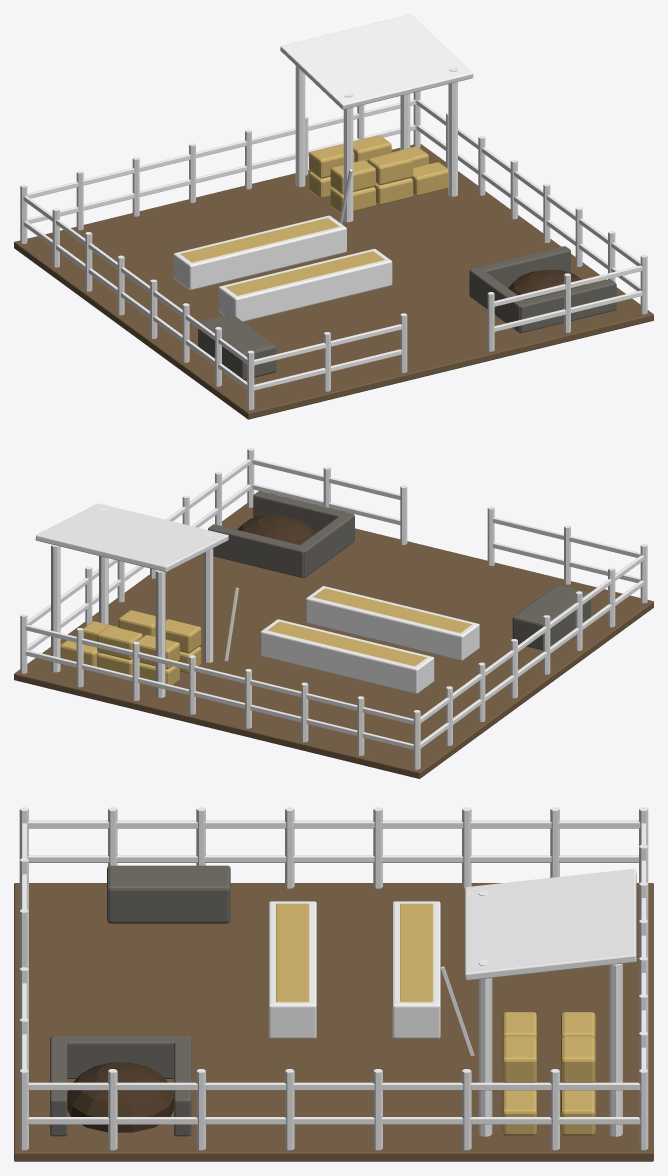
The model's file is besi.glb.
The picture shows the model from 3 angles, top to bottom: view 1: azimuth 30°, elevation 25°; view 2: azimuth 150°, elevation 25°; view 3: azimuth 270°, elevation 25°; orthographic projection. The views are drawn at different scales.
Parts seen in each view (by area): view 1: Avlu; view 2: Avlu; view 3: Avlu.
Part boxes in pixels (x1,y1,x2,y2): Avlu: (14, 14, 653, 419); Avlu: (14, 448, 653, 778); Avlu: (14, 807, 653, 1161).
Bounding box in the file's own units: 1 × 0.3658 × 1.
